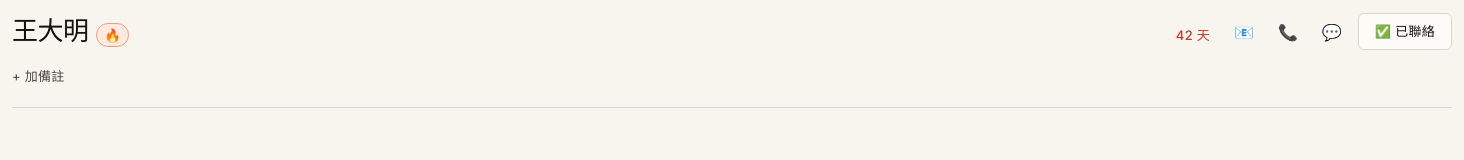
Test: FollowupCardRow next-pick flow › shows the picker after marking contacted, with all 5 options
The image size is (1464, 160).
Click the button with aria-label "標記已聯絡 王大明": (1405, 32) top-left (1358, 13), bottom-right (1452, 50)
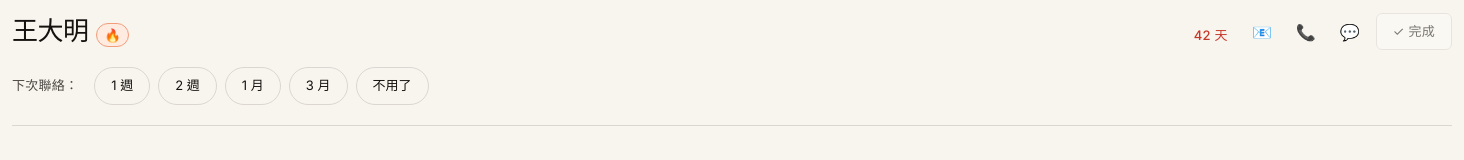
Check: the element named "下次聯絡 王大明" is shown, box top-left (12, 67), bottom-right (428, 104)
Check: the button "1 週" is shown, box top-left (94, 67), bottom-right (150, 104)
Check: the button "2 週" is shown, box top-left (158, 67), bottom-right (217, 104)
